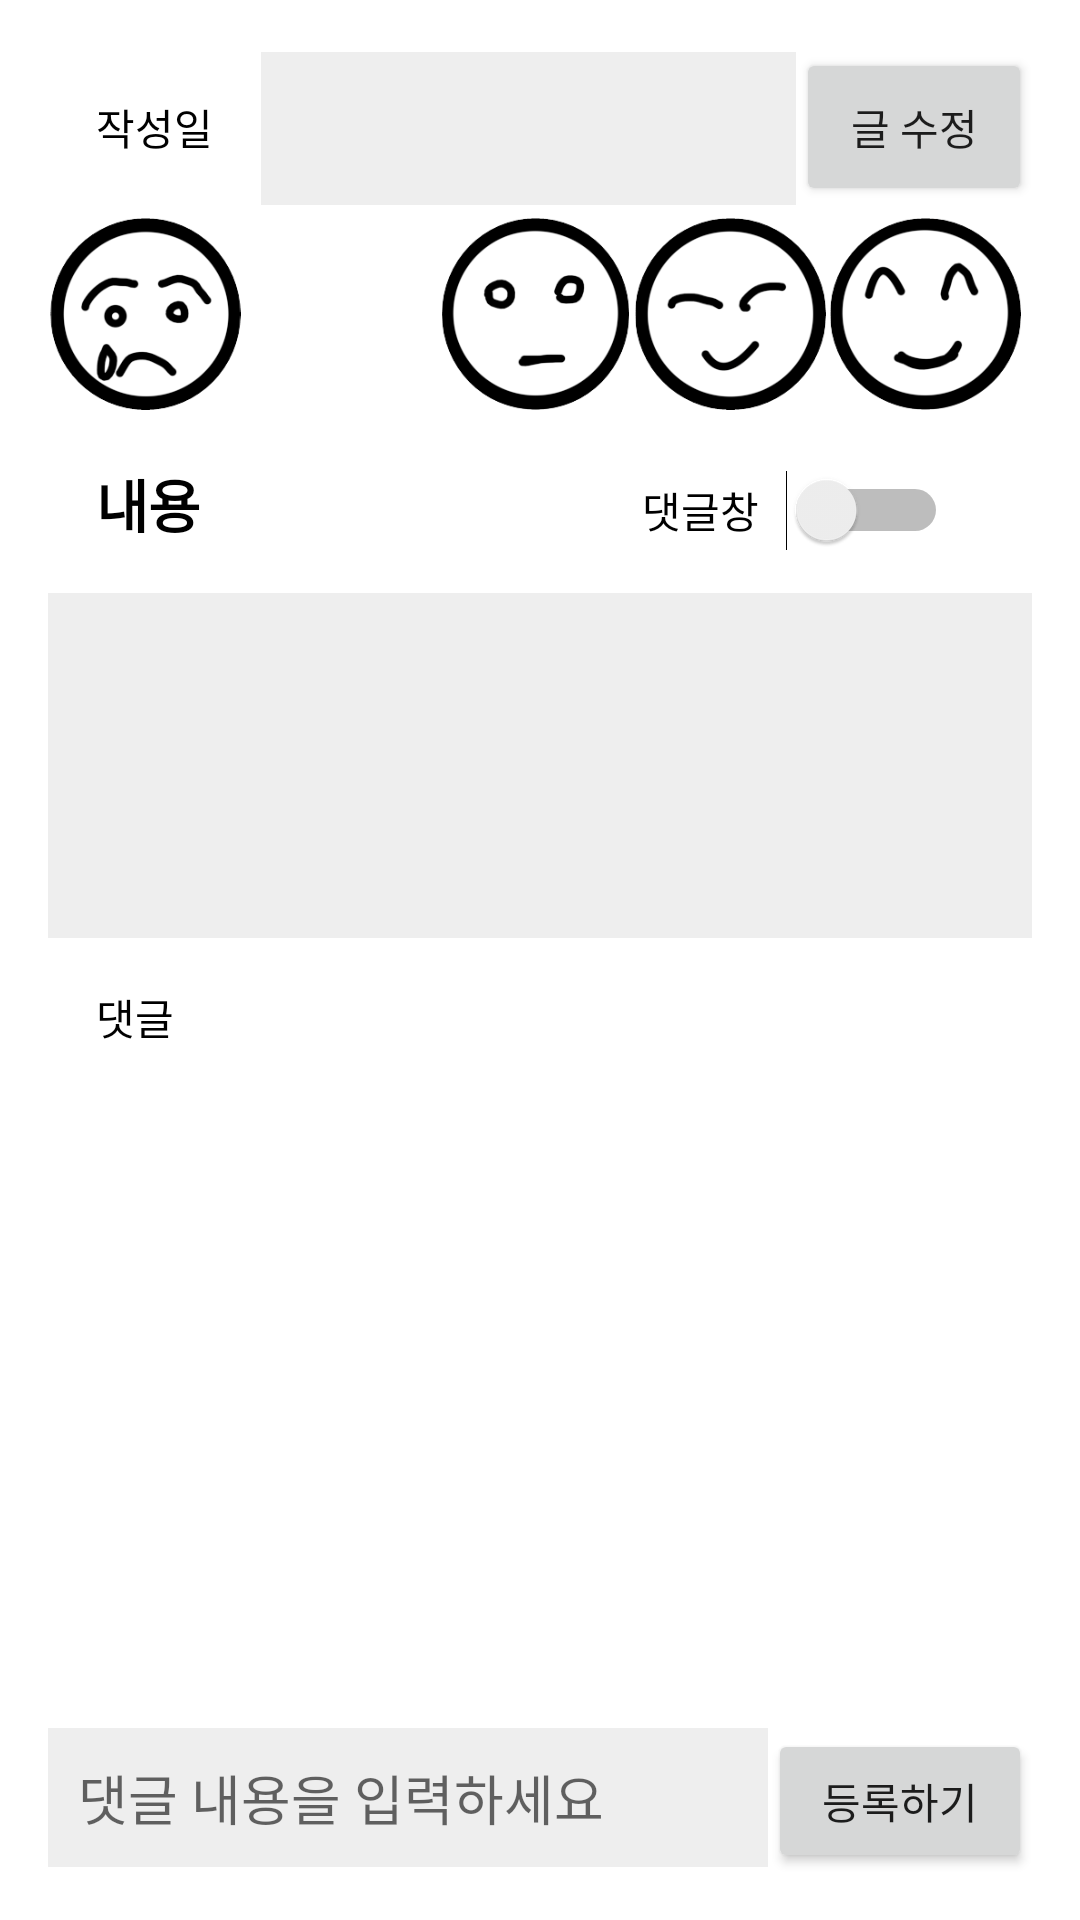

Icon click points for this 1080 x 1920 phone screenshot, format point (x, y):
emotion: point (145, 314), point (535, 314), point (730, 314), point (925, 314)
